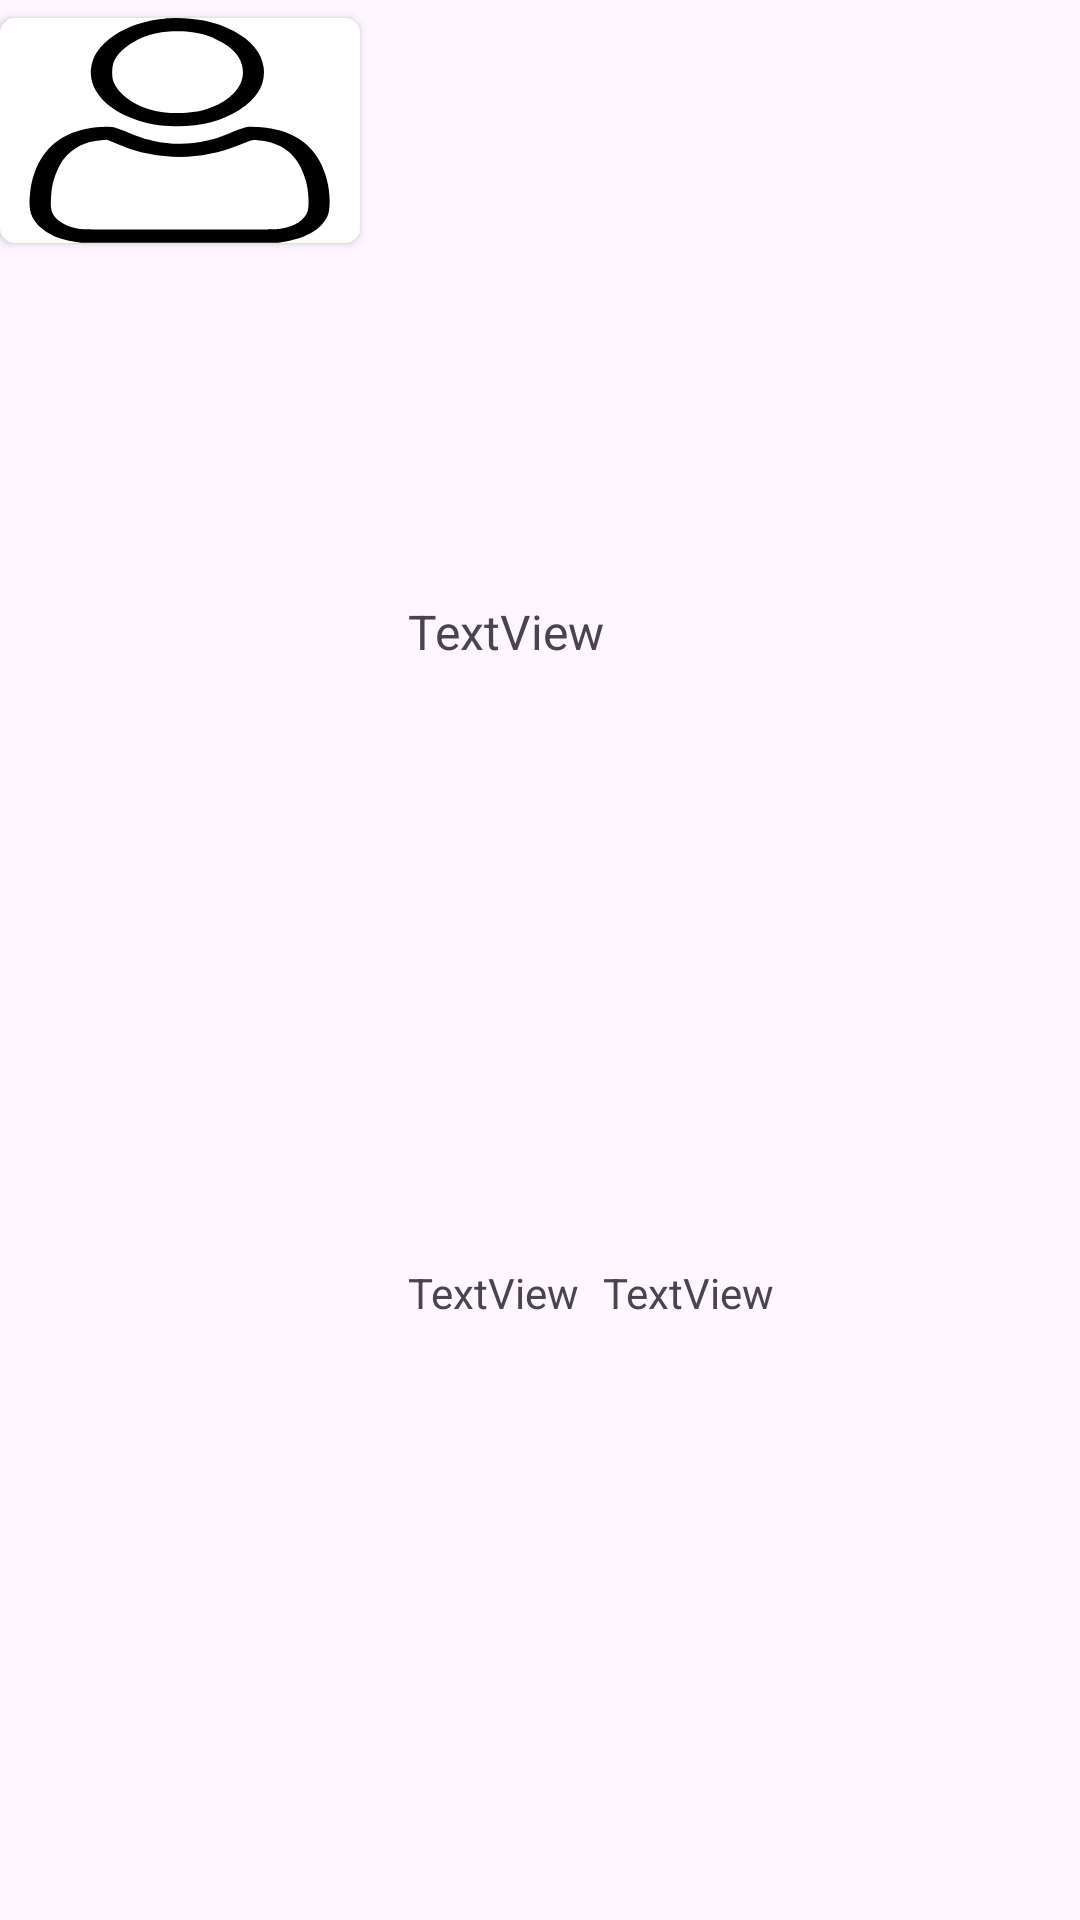

Named icons in this screenshot (1080px x 1920px) and their centers, (x=x, y=y):
user: (x=180, y=130)
